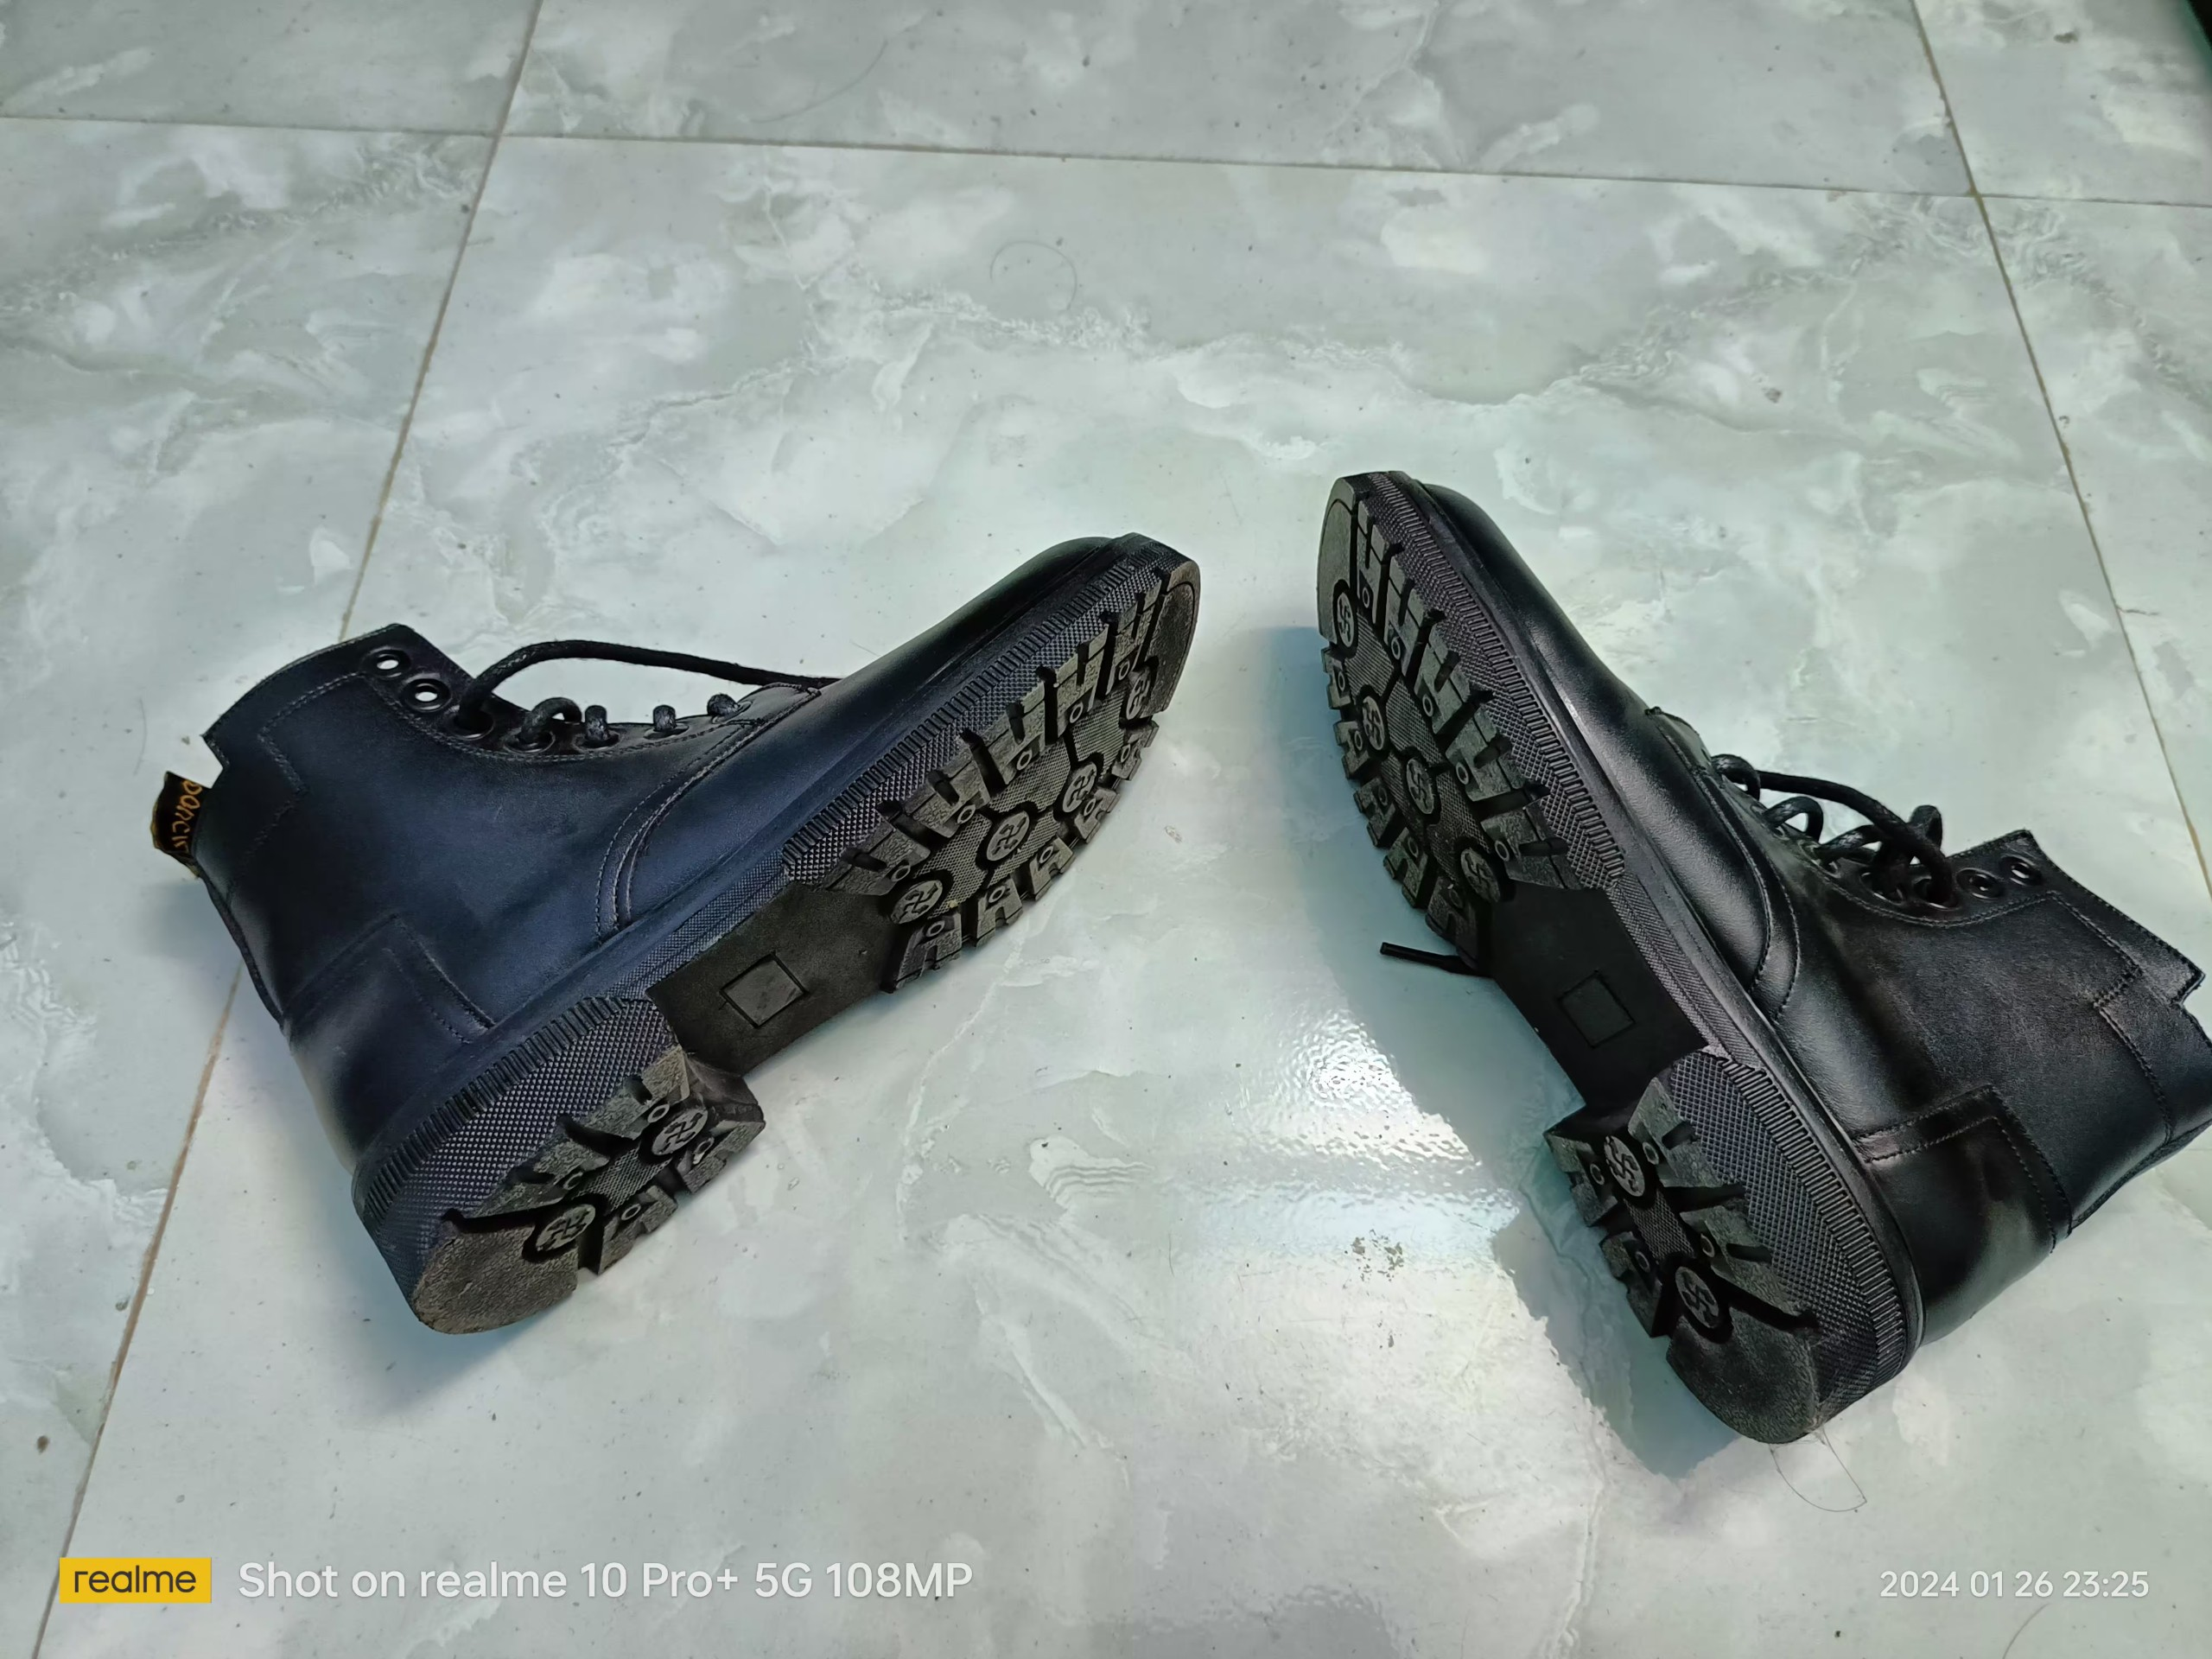boots: (1305, 469, 2212, 1445), (136, 523, 1205, 1344)
